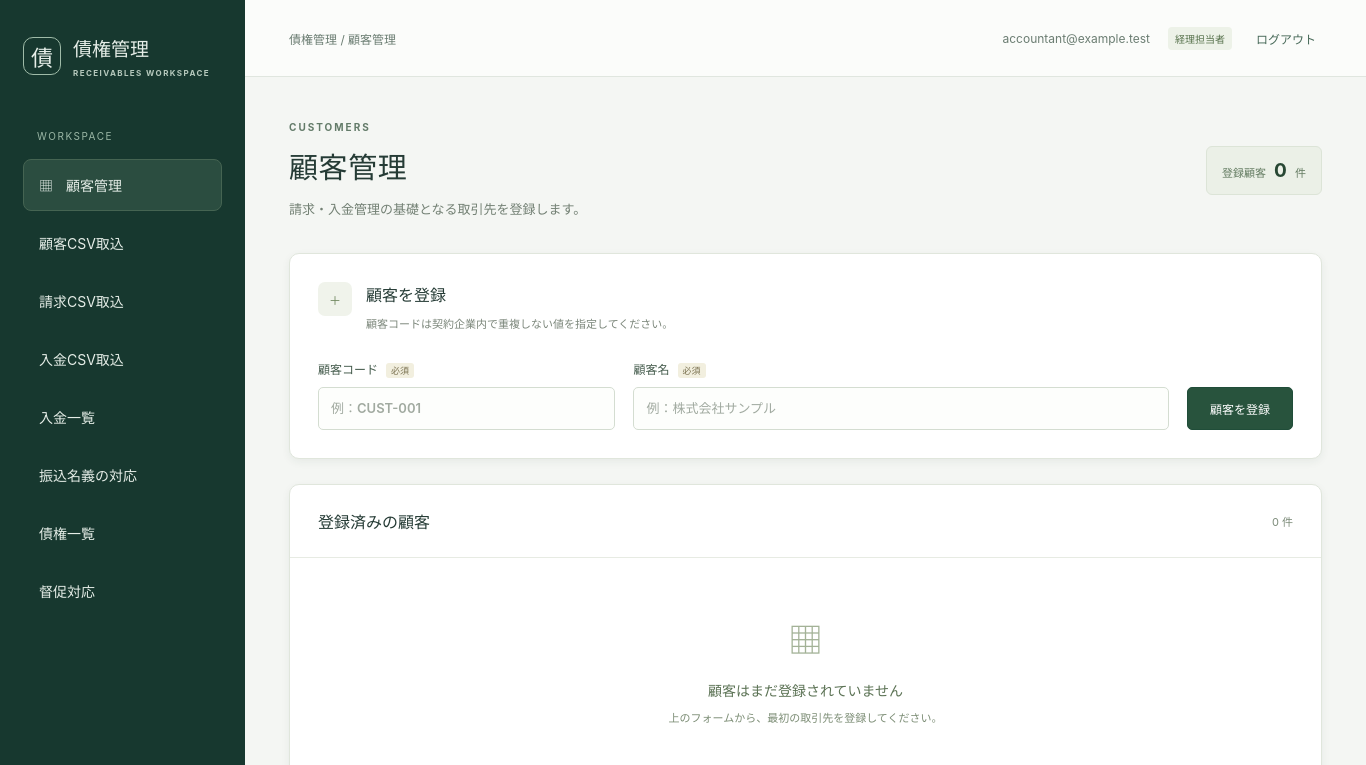
Test: Payment confirmation and server-paged immutable facts › shows exact largest safe yen amounts, source batch and read-only payment facts with a separate human allocation action
Click the button "入金一覧" at (122, 417), box [23,391,222,443]
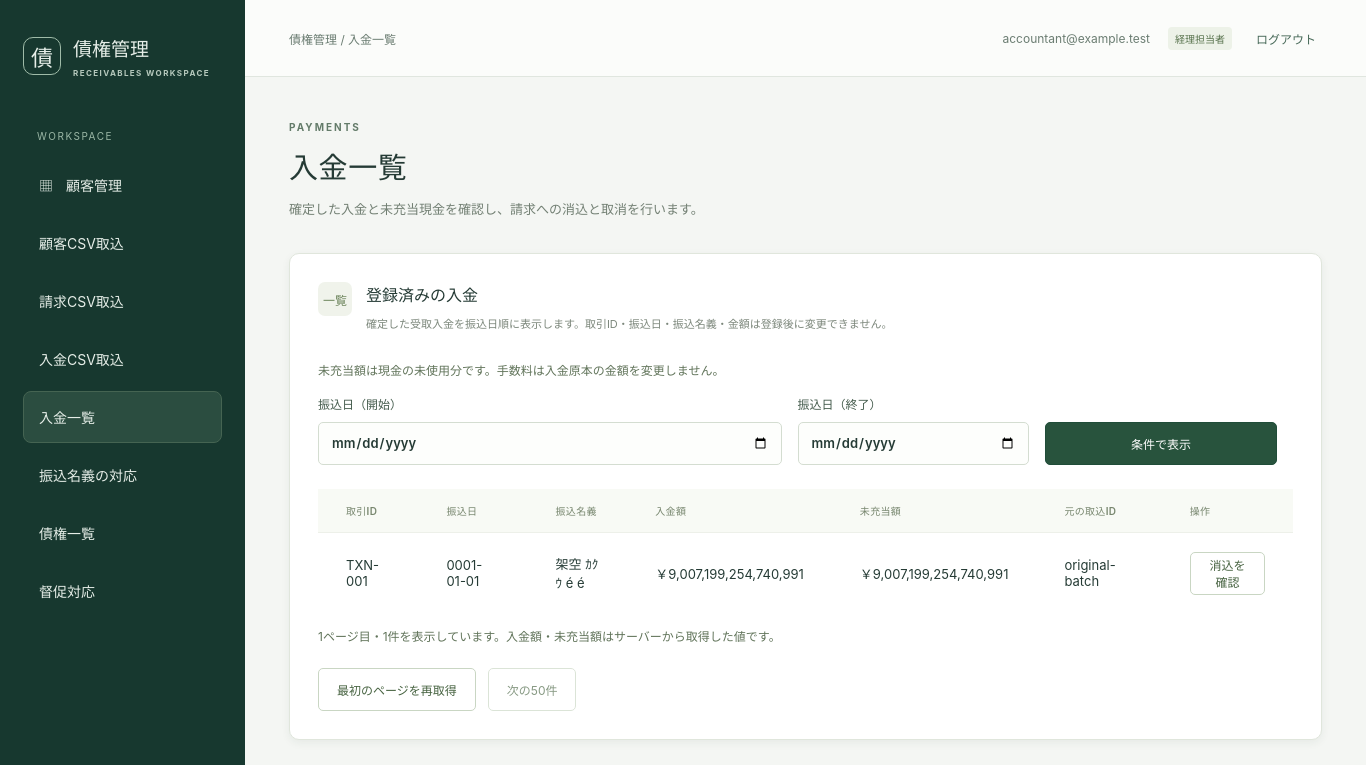
Check: the text "￥9,007,199,254,740,991" is shown 2 times, box [627,532,832,614]; [832,532,1036,614]
Check: the table named "入金一覧" shows "架空 ｶｸｳ é é", box [556,556,598,591]
Check: the table named "入金一覧" shows "0001-01-01", box [446,557,482,589]
